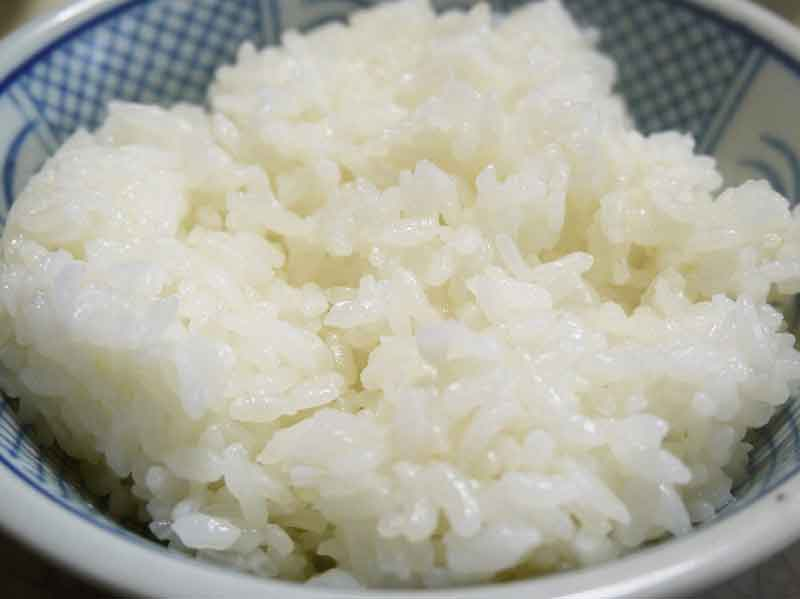Nasi Putih: (1, 17, 785, 583)
